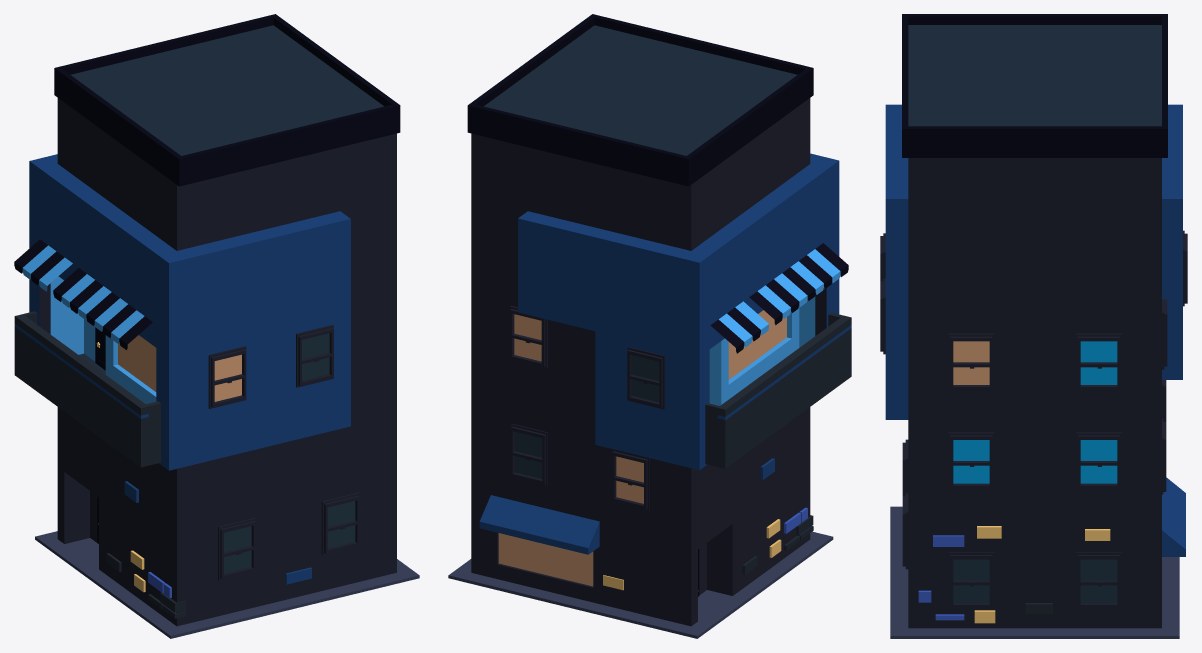
File: Building_ScramblyBox04.fbx
3 views of the same model, side by side, from view 1: azimuth 30°, elevation 25°; view 2: azimuth 150°, elevation 25°; view 3: azimuth 270°, elevation 25° (orthographic). The views are drawn at different scales.
Visible parts, largest first — view 1: Cube.813; view 2: Cube.813; view 3: Cube.813.
Boxes of the visible parts, x1,y1,x2,y2 form: Cube.813: [14, 14, 419, 638]; Cube.813: [448, 14, 851, 638]; Cube.813: [880, 14, 1187, 638].
Size of the model in its own units: 747 by 1211 by 671.
